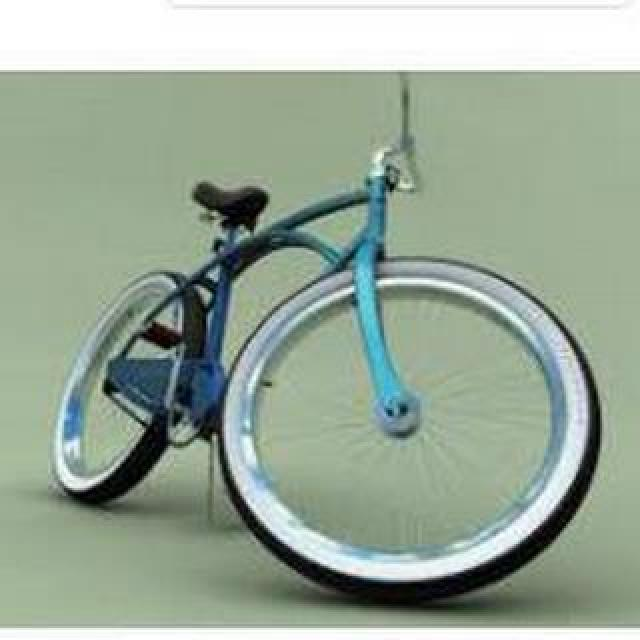Person: (48, 68, 610, 606)
